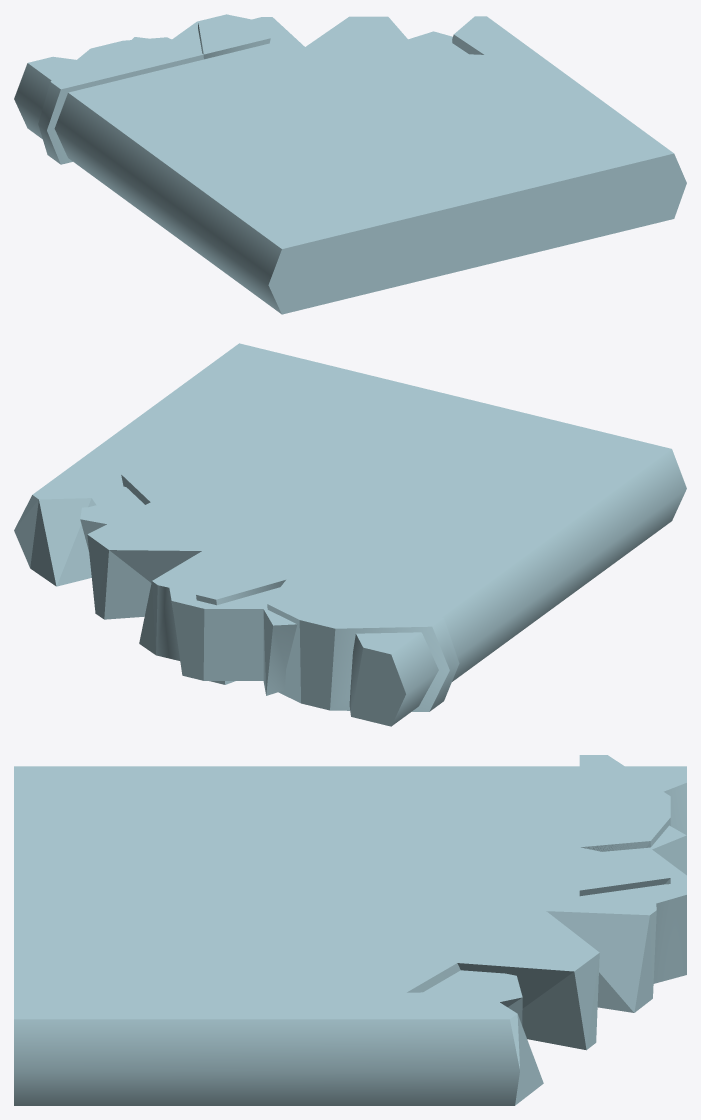
3 renders of one model, top to bottom at view 1: azimuth 30°, elevation 25°; view 2: azimuth 150°, elevation 25°; view 3: azimuth 270°, elevation 25°, orthographic. The views are drawn at different scales.
Visible parts, largest first — view 1: Object03; view 2: Object03; view 3: Object03.
Boxes of the visible parts, left/top/right/bottom form: Object03: left=14, top=14, right=686, bottom=314; Object03: left=14, top=343, right=686, bottom=726; Object03: left=14, top=755, right=686, bottom=1105.
Size of the model in its own units: 29853 by 5042 by 30869.
